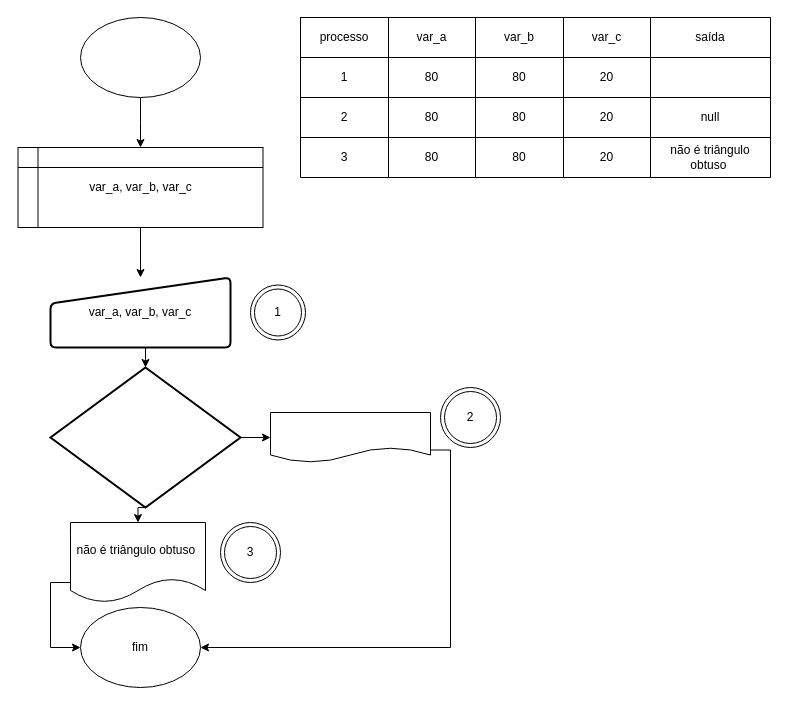
This 788x705 diagram has some shape labels left out. The centre of each missing label's shape, as x and y in pixels:
"if (var_a > 90) || (var_b > 90) || (var_c > 90)" goes at point 145,437.
"início" goes at point 140,57.
"é triângulo obtuso" goes at point 350,437.
